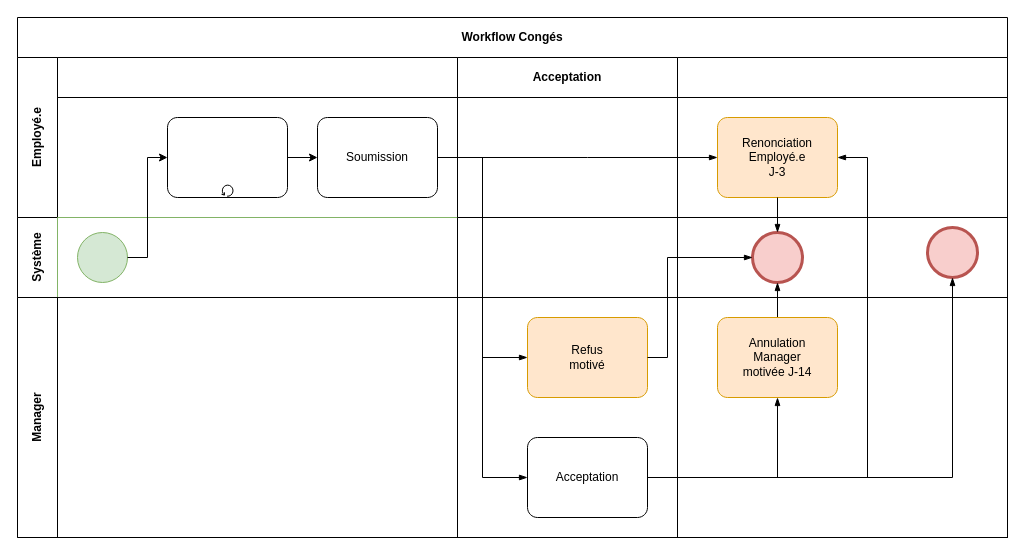
Image size: 1025x555. Some labels were removed from this diagram. The shapes that lost their labels are listed below. From the top down, each one's box as (x1, y1, x2, y2) in pixels, then its label:
(166, 116, 288, 198): Saisie
(56, 56, 458, 218): Décalaration
(676, 56, 1008, 218): Renonciation/réalisation
